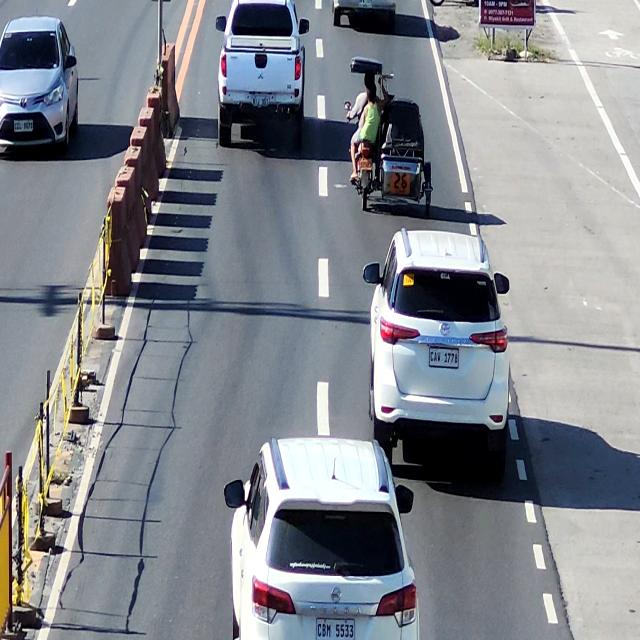Car: (229, 440, 416, 640), (370, 229, 510, 468), (217, 0, 308, 154), (0, 15, 80, 147), (331, 0, 395, 24)
License-Plate: (311, 611, 356, 640), (426, 344, 461, 371), (10, 116, 36, 136), (248, 92, 272, 108), (358, 0, 374, 12)
Tricycle: (343, 56, 435, 212)
